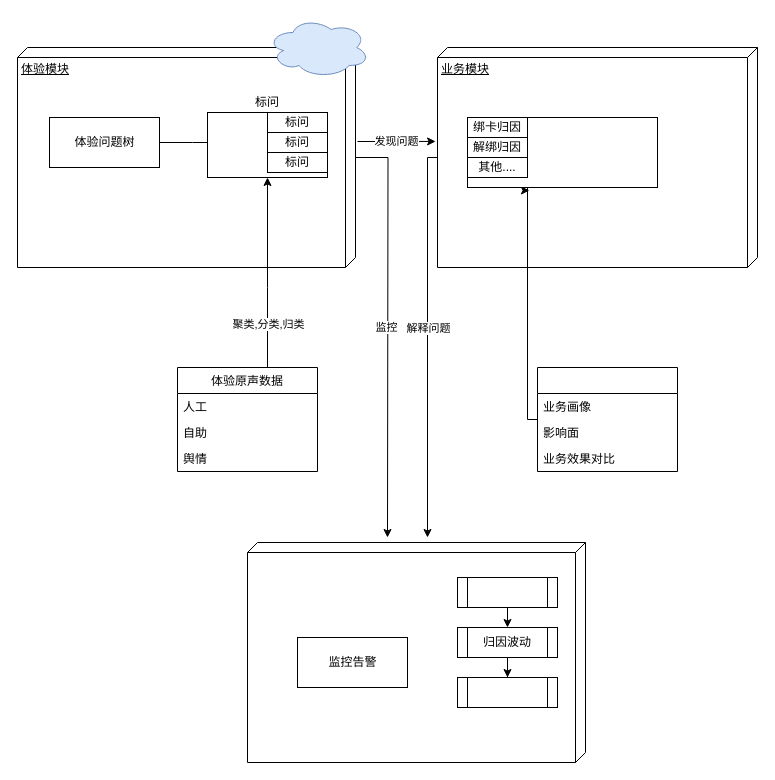
This 775x780 diagram has some shape labels left out. The box of each missing label's shape, as (x1, y1, x2, y2) in pixels:
业务数据: (536, 366, 678, 472)
原声波动: (456, 576, 558, 608)
瑞思值: (266, 16, 370, 78)
监控模块: (246, 542, 586, 762)
规则告警: (456, 676, 558, 708)
问题归因: (466, 116, 658, 188)
